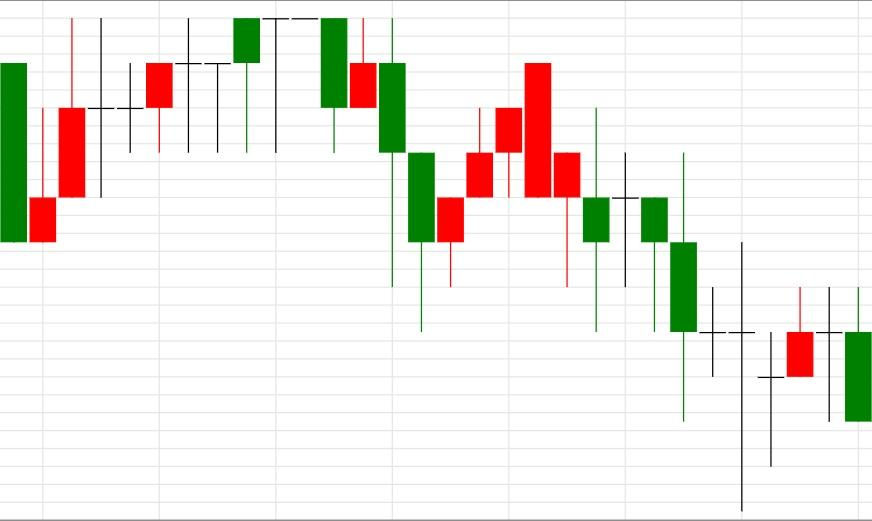three_white_soldiers_rise: (233, 18, 524, 333)
